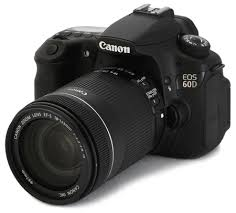camera: (10, 26, 229, 188)
